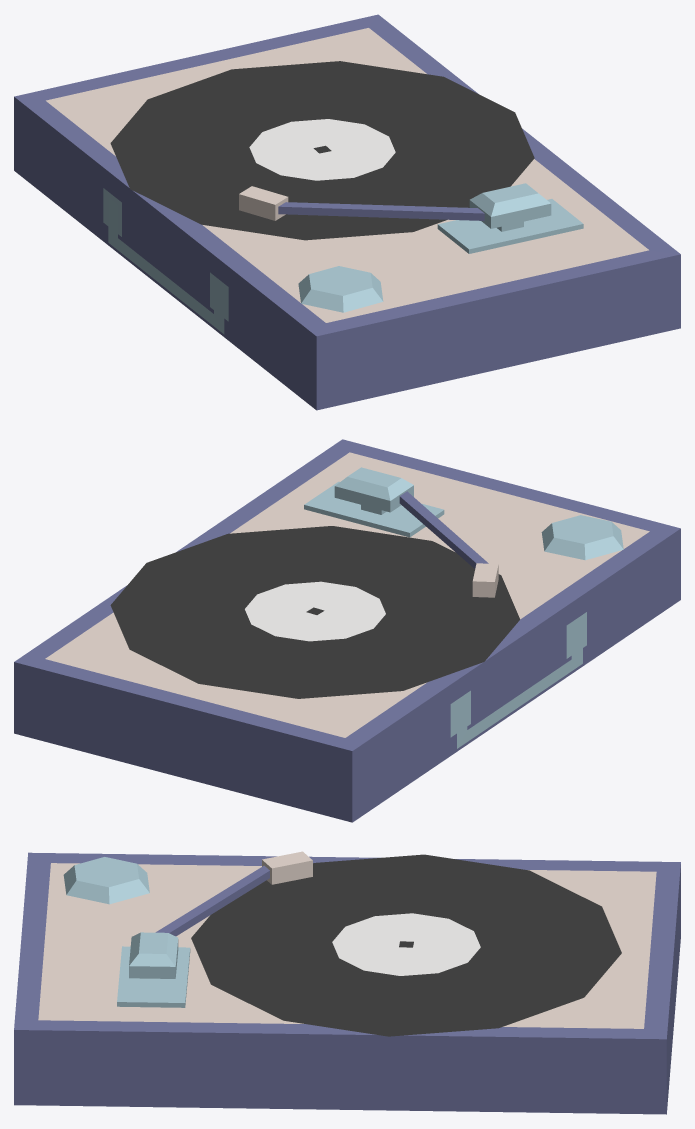
The model's file is Vinyl_players_2.fbx.
The picture shows the model from 3 angles, top to bottom: view 1: azimuth 30°, elevation 25°; view 2: azimuth 150°, elevation 25°; view 3: azimuth 270°, elevation 25°; orthographic projection. The views are drawn at different scales.
Visible parts, largest first — view 1: Vinyl_players_2; view 2: Vinyl_players_2; view 3: Vinyl_players_2.
Boxes of the visible parts, x1,y1,x2,y2 form: Vinyl_players_2: (14, 14, 680, 410); Vinyl_players_2: (14, 439, 680, 822); Vinyl_players_2: (14, 851, 680, 1114).
Size of the model in its own units: 27.33 by 41.26 by 7.61.
